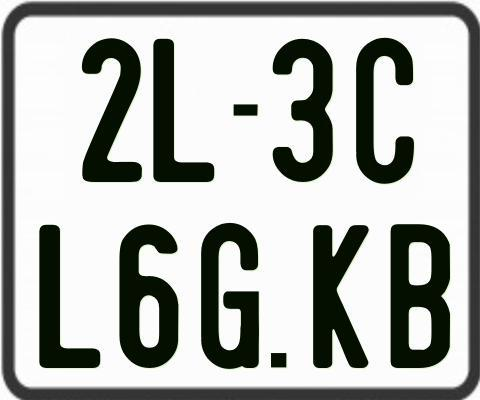2: (79, 37, 143, 183)
3: (273, 38, 333, 181)
6: (118, 225, 180, 369)
B: (388, 224, 449, 369)
C: (353, 35, 411, 181)
G: (201, 222, 261, 369)
K: (313, 222, 373, 365)
L: (152, 37, 218, 186), (37, 222, 102, 365)
